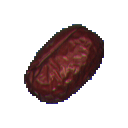ng: (19, 19, 109, 108)
